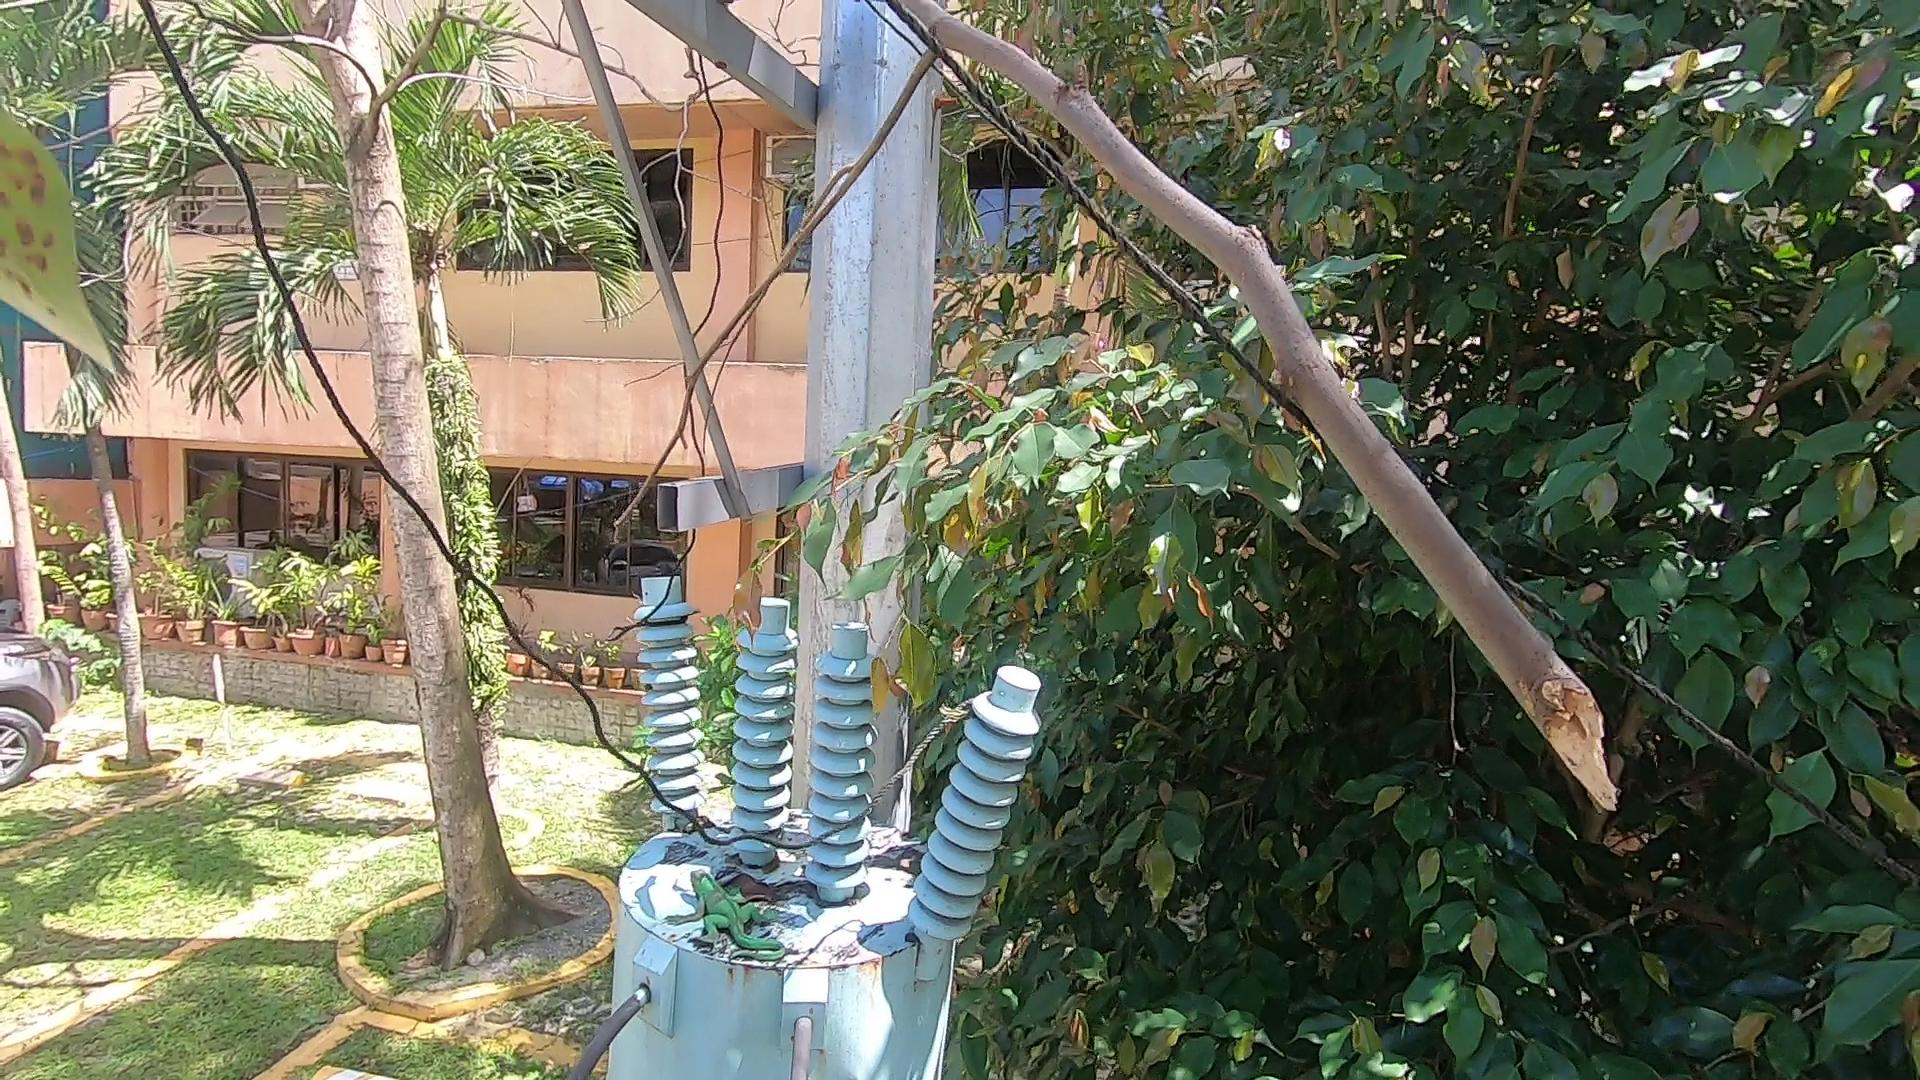branch with leaves: (712, 415, 1025, 724)
leaf: (717, 862, 825, 924), (872, 841, 922, 876), (666, 814, 720, 843)
tree branch: (824, 9, 1651, 890)
